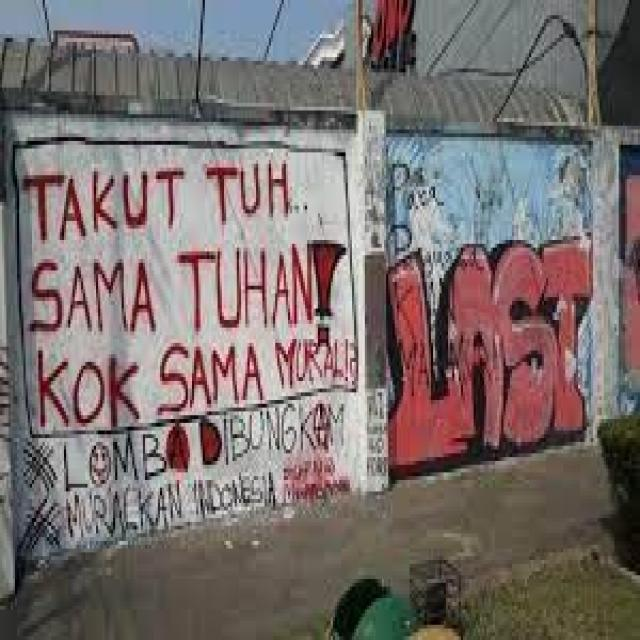-: (10, 132, 359, 569), (387, 138, 598, 478), (622, 142, 640, 416), (364, 114, 382, 252), (367, 391, 387, 478)
